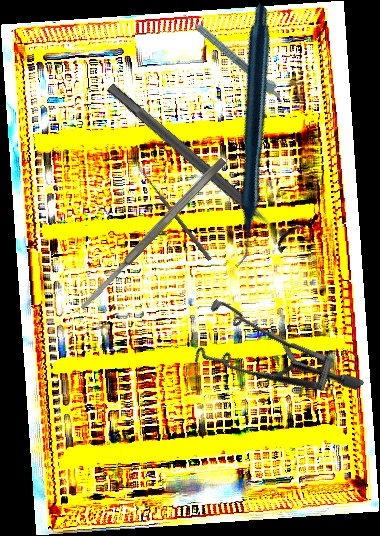Fixation Ring: (97, 72, 305, 255)
Handpiece: (120, 3, 377, 268), (180, 7, 287, 101)
Spatula Surgical: (76, 156, 229, 312)
Speculum: (172, 258, 366, 457)
Surgical Spoon: (136, 165, 213, 262)
